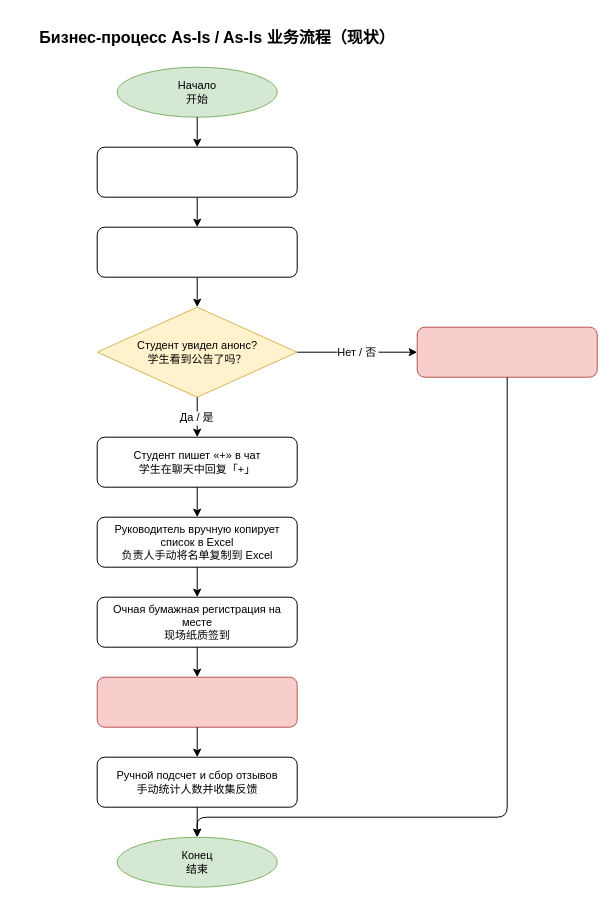
Some shapes in this 615 by 905 pixel diagram are drawn without their labels. Each missing label, with the centre of its shape:
Отправка анонса в групповой чат 将公告发送到群组聊天: point (196, 251)
Очереди, ошибки, «мертвые души» 排队、错误、「代签」现象: point (196, 701)
Пропуск мероприятия 错过活动: point (506, 351)
Руководитель клуба пишет анонс 社团负责人撰写活动公告: point (196, 171)
